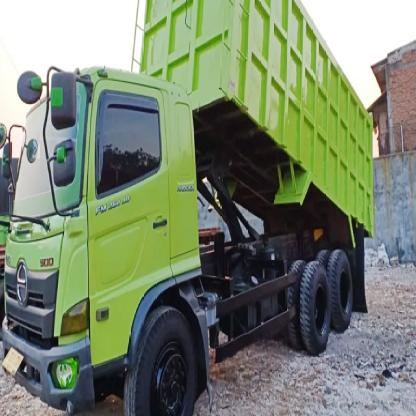dump_truck: (5, 0, 372, 415)
